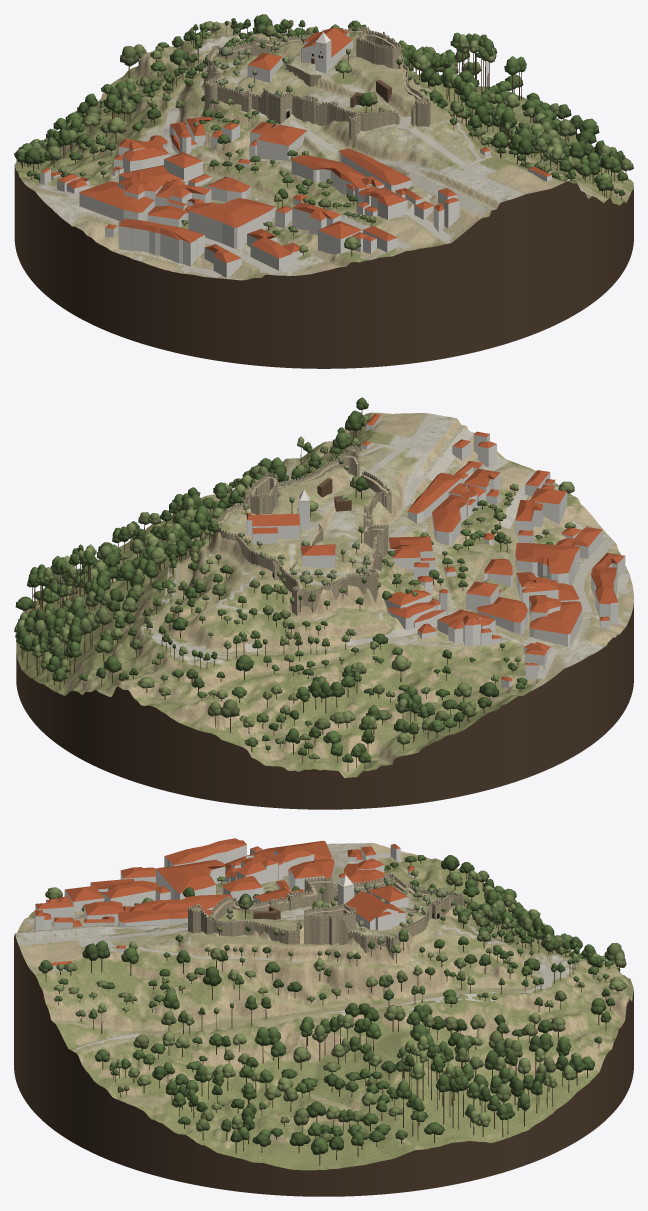
Rendered from penela.glb.
The picture shows the model from 3 angles, top to bottom: view 1: azimuth 30°, elevation 25°; view 2: azimuth 150°, elevation 25°; view 3: azimuth 270°, elevation 25°; orthographic projection.
Visible parts, largest first — view 1: Base, Terreno, Edificios_Vila, Vegetacao, Caminhos, pano_poente, Igreja_Sao_Miguel, Castelejo, pano_noroeste, pano_sul, Casa_Paroquial; view 2: Terreno, Vegetacao, Base, Edificios_Vila, Caminhos, Igreja_Sao_Miguel, pano_noroeste, pano_poente, pano_norte, Castelejo, Casa_Paroquial, pano_nascente; view 3: Terreno, Vegetacao, Base, Edificios_Vila, Caminhos, Igreja_Sao_Miguel, Castelejo, pano_poente, pano_nascente, pano_norte, pano_noroeste, Casa_Paroquial.
Boxes of the visible parts, x1,y1,x2,y2 form: Base: [14, 165, 633, 368]; Terreno: [14, 21, 633, 280]; Edificios_Vila: [40, 117, 551, 277]; Vegetacao: [14, 14, 633, 256]; Caminhos: [24, 33, 601, 278]; pano_poente: [212, 83, 357, 125]; Igreja_Sao_Miguel: [300, 27, 352, 73]; Castelejo: [356, 30, 401, 68]; pano_noroeste: [204, 39, 270, 110]; pano_sul: [349, 109, 399, 140]; Casa_Paroquial: [247, 52, 282, 82]; Terreno: [16, 412, 633, 777]; Vegetacao: [14, 397, 575, 771]; Base: [16, 459, 633, 809]; Edificios_Vila: [361, 414, 625, 687]; Caminhos: [141, 416, 631, 685]; Igreja_Sao_Miguel: [246, 490, 310, 544]; pano_noroeste: [274, 558, 377, 615]; pano_poente: [363, 492, 388, 573]; pano_norte: [211, 486, 274, 570]; Castelejo: [250, 472, 277, 514]; Casa_Paroquial: [300, 544, 335, 568]; pano_nascente: [277, 451, 359, 488]; Terreno: [14, 843, 633, 1170]; Vegetacao: [38, 855, 627, 1165]; Base: [14, 934, 633, 1196]; Edificios_Vila: [34, 838, 414, 970]; Caminhos: [25, 852, 553, 1053]; Igreja_Sao_Miguel: [337, 872, 405, 930]; Castelejo: [304, 904, 355, 945]; pano_poente: [233, 874, 386, 913]; pano_nascente: [201, 908, 299, 944]; pano_norte: [339, 906, 428, 959]; pano_noroeste: [387, 872, 464, 919]; Casa_Paroquial: [367, 885, 408, 908].
Size of the model in its own units: 302 by 106 by 300.
Materials: 11 (2 with a texture image).
